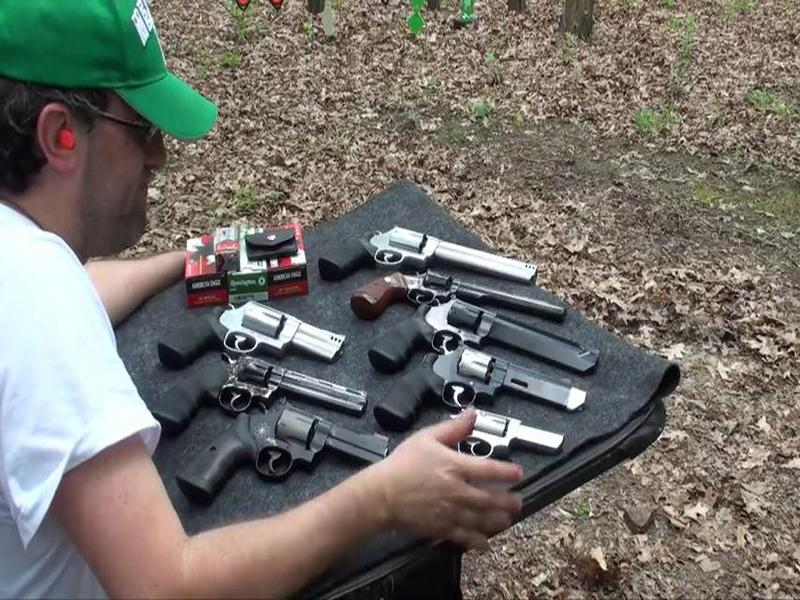Revolver: (349, 292, 602, 374)
